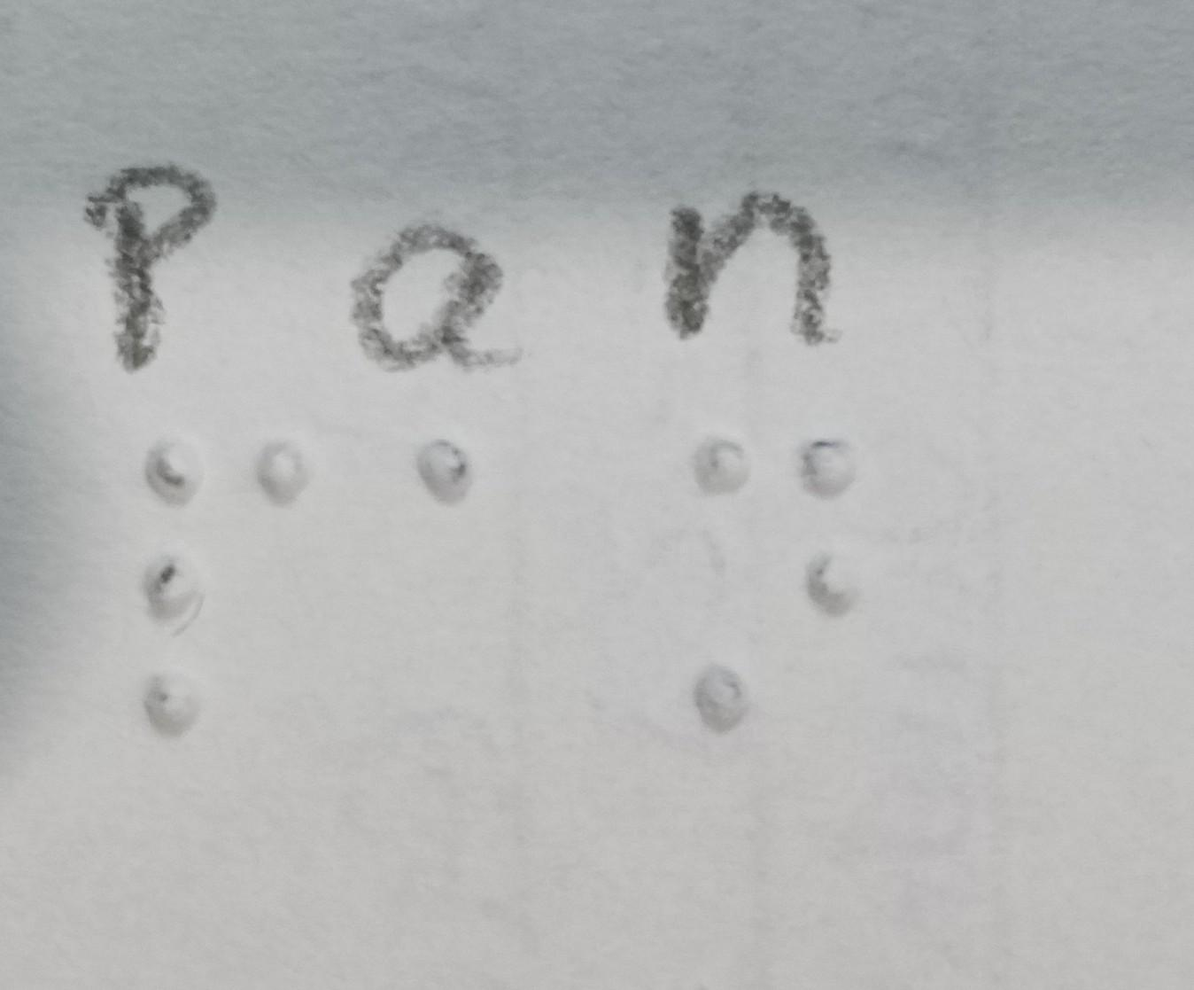a: (343, 414, 543, 518)
n: (647, 417, 937, 749)
p: (102, 412, 341, 744)
